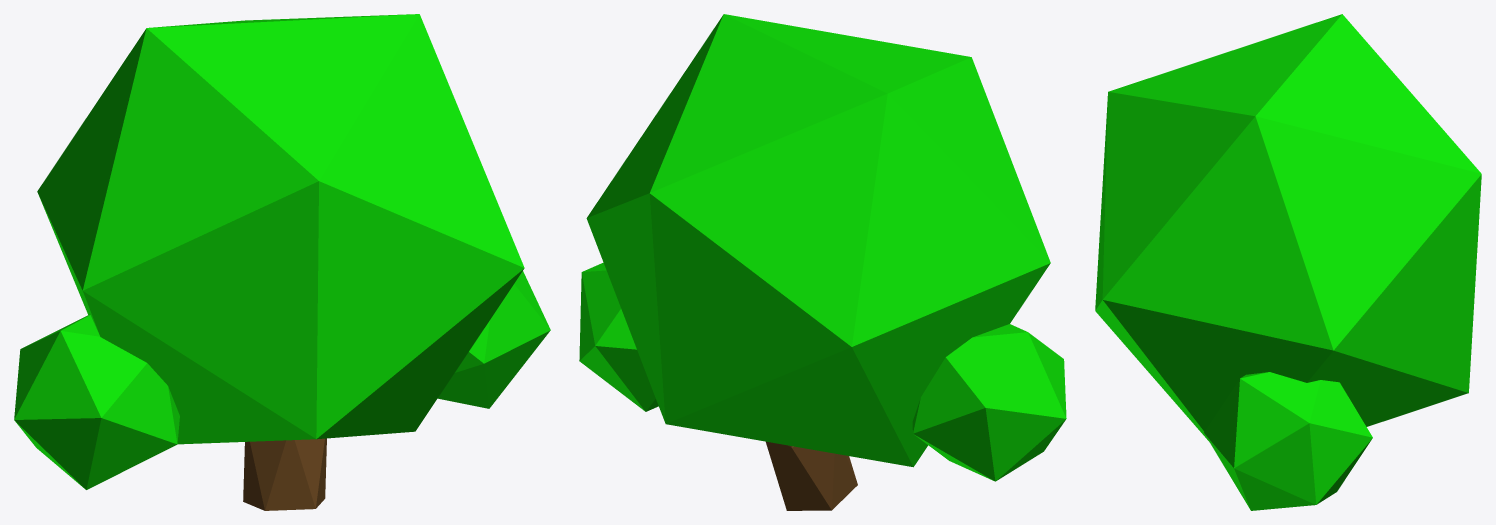
File: Busch1(LOW).fbx
The picture shows the model from 3 angles, left to right: view 1: azimuth 30°, elevation 25°; view 2: azimuth 150°, elevation 25°; view 3: azimuth 270°, elevation 25°; orthographic projection. The views are drawn at different scales.
Parts seen in each view (by area): view 1: Busch1; view 2: Busch1; view 3: Busch1.
Boxes of the visible parts, x1,y1,x2,y2 form: Busch1: (14, 14, 550, 510); Busch1: (579, 14, 1066, 510); Busch1: (1095, 14, 1481, 510).
Bounding box in the file's own units: 302 × 276 × 223.
